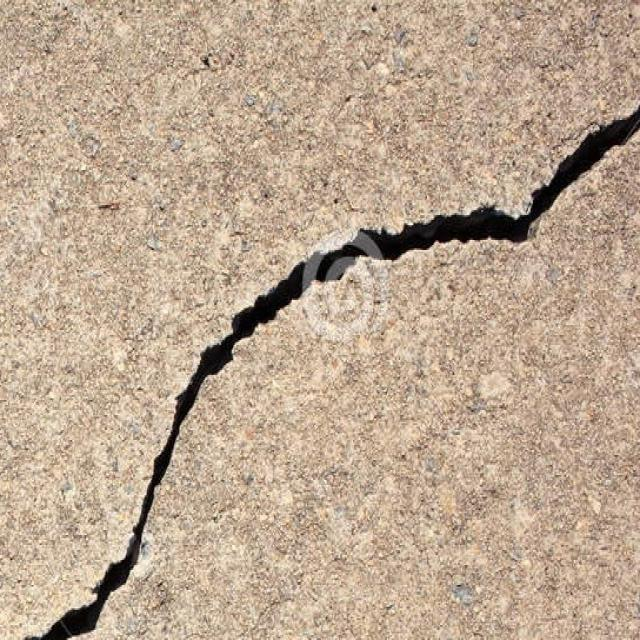Diagonal: (23, 101, 638, 640)
